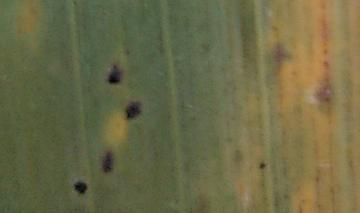tarspot: (123, 101, 143, 119), (109, 64, 122, 84), (102, 151, 113, 174), (73, 181, 88, 195), (258, 161, 267, 170)
